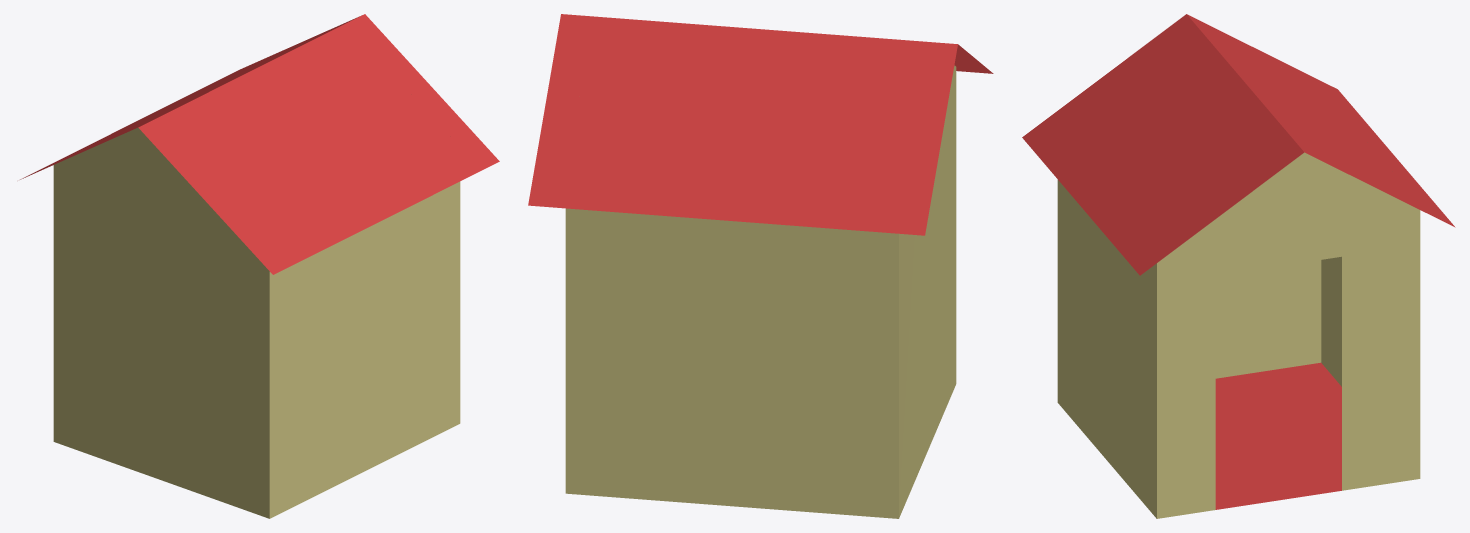
The picture shows the model from 3 angles, left to right: view 1: azimuth 30°, elevation 25°; view 2: azimuth 150°, elevation 25°; view 3: azimuth 270°, elevation 25°; orthographic projection. The views are drawn at different scales.
Visible parts, largest first — view 1: group_5, group_3, group_4; view 2: group_5, group_3, group_4; view 3: group_5, group_3, group_6, group_4.
Boxes of the visible parts, <box> form: group_5: <box>53,127,460,518</box>; group_3: <box>56,14,498,274</box>; group_4: <box>20,14,499,228</box>; group_5: <box>565,65,956,518</box>; group_3: <box>529,16,957,235</box>; group_4: <box>528,14,993,235</box>; group_5: <box>1057,152,1420,518</box>; group_3: <box>1022,14,1425,275</box>; group_6: <box>1215,362,1341,509</box>; group_4: <box>1113,14,1455,275</box>.
Size of the model in its own units: 15.81 by 15.54 by 14.09.
